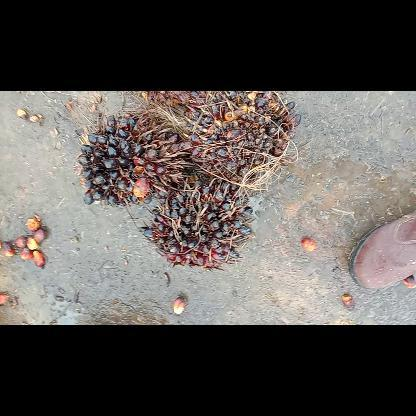TBS abnormal: (137, 175, 259, 275), (181, 91, 303, 187)
TBS masak: (78, 112, 198, 204), (138, 90, 247, 124)
